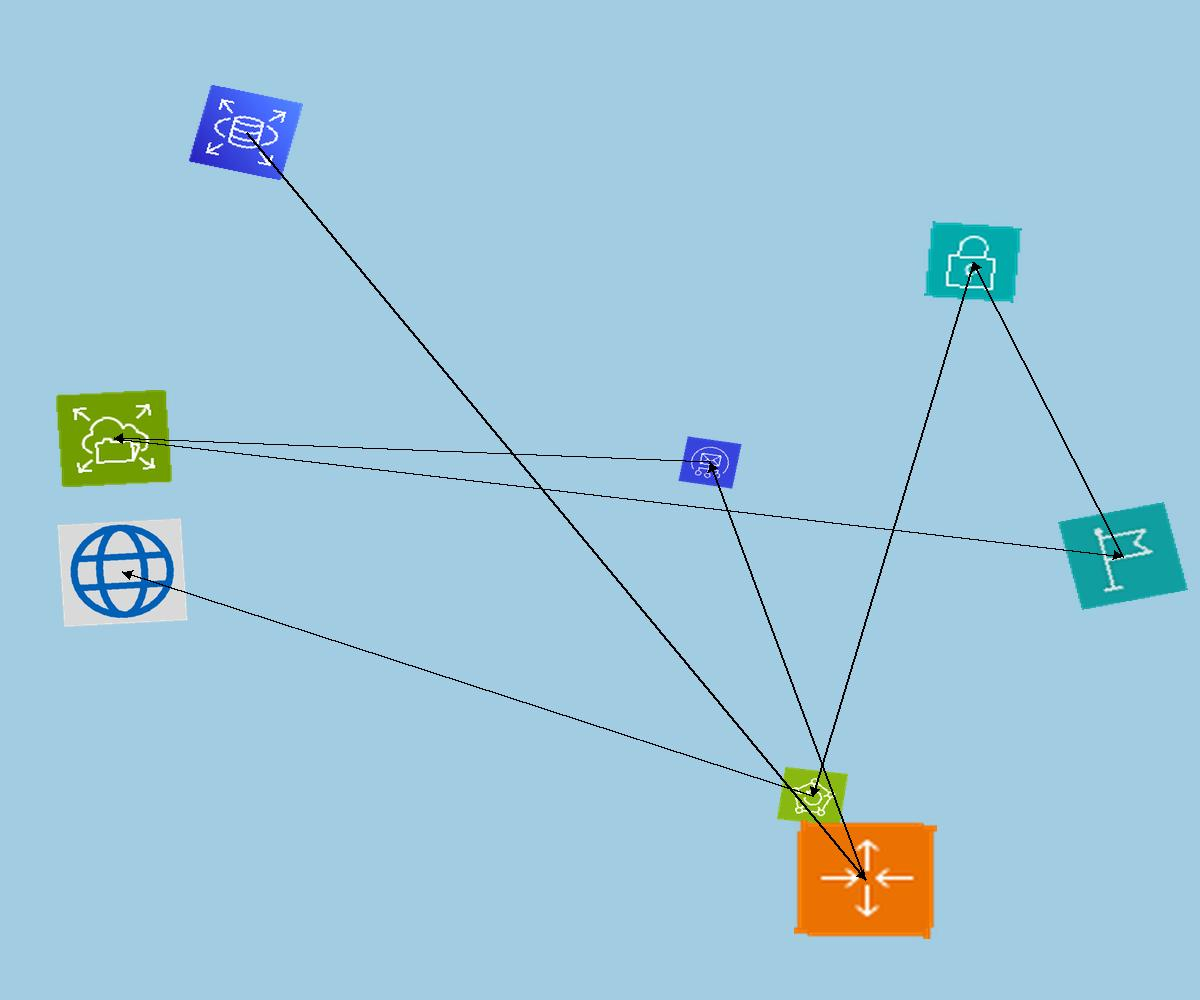AWS-Backup: (777, 767, 848, 826)
AWS-EFS: (55, 389, 173, 488)
AWS-Private-subnet: (924, 221, 1022, 303)
AWS-RDS: (188, 84, 304, 181)
AWS-Region: (1058, 502, 1188, 610)
AWS-Scaling-group: (794, 820, 937, 939)
AWS-Simple-Email-Service: (678, 436, 742, 489)
Azure_http: (57, 518, 188, 627)
